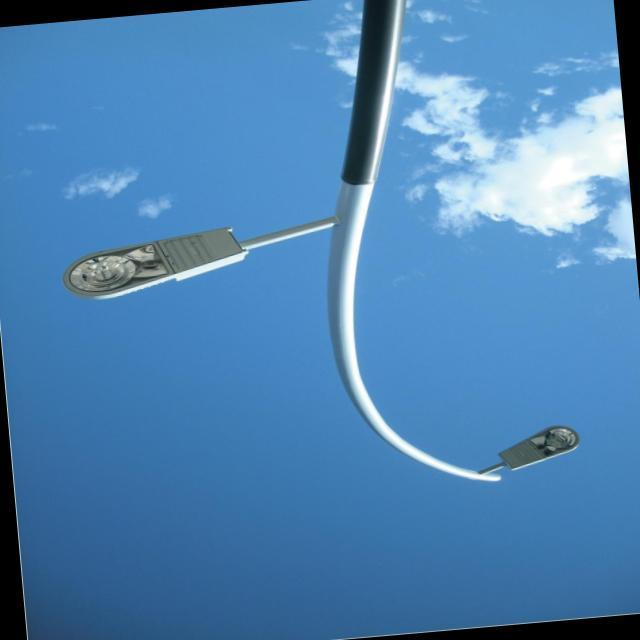off: (33, 196, 356, 358), (440, 388, 632, 514)
